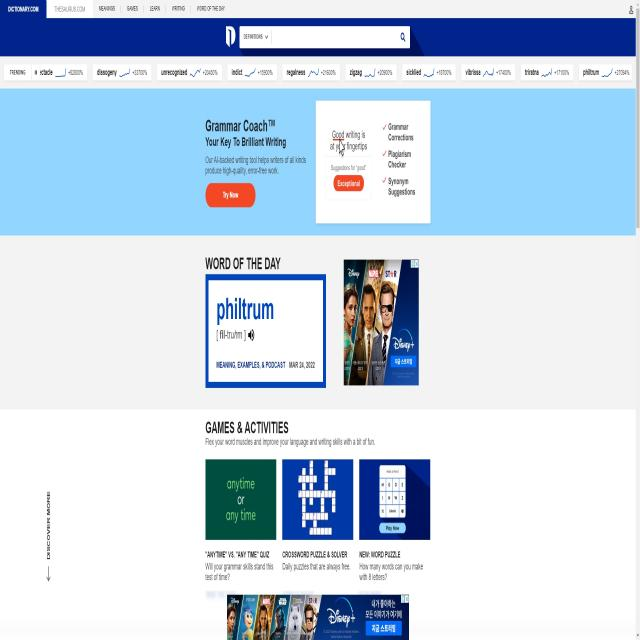search: (234, 22, 418, 56)
